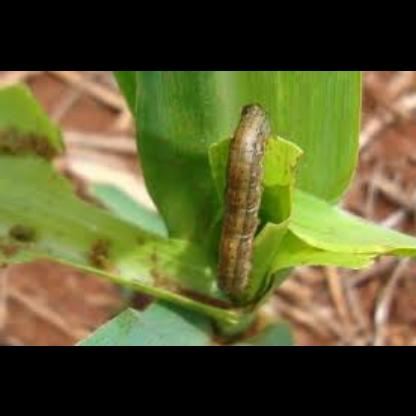oruga: (212, 100, 274, 296)
